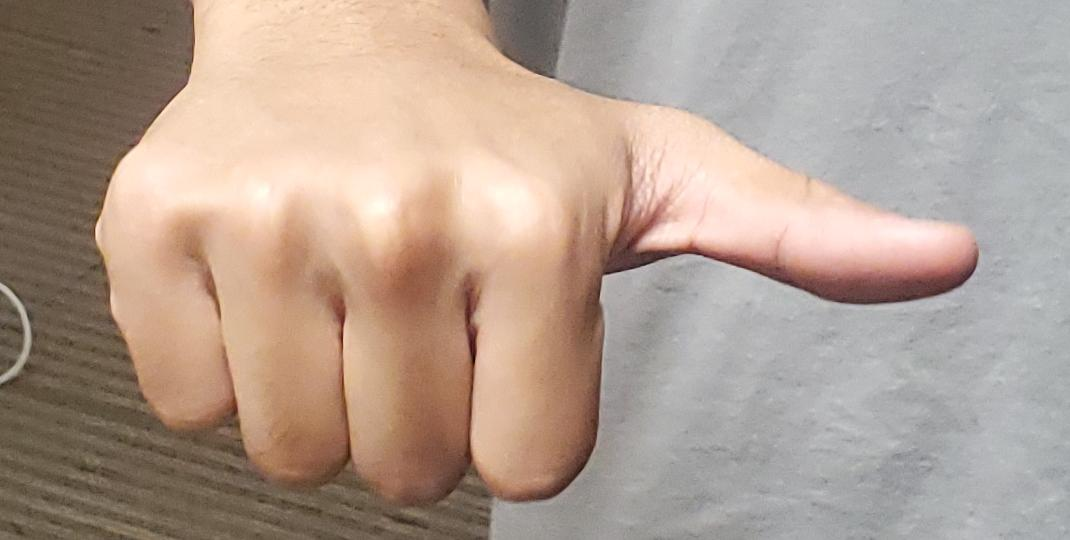left: (1, 0, 1070, 540)
